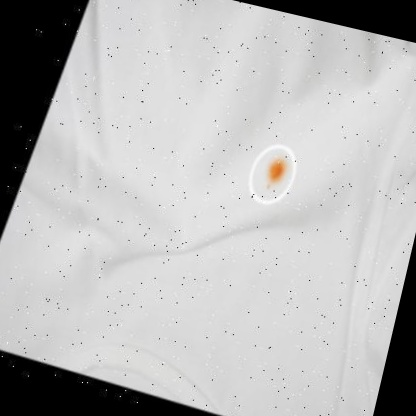kimchi: (258, 156, 289, 191)
